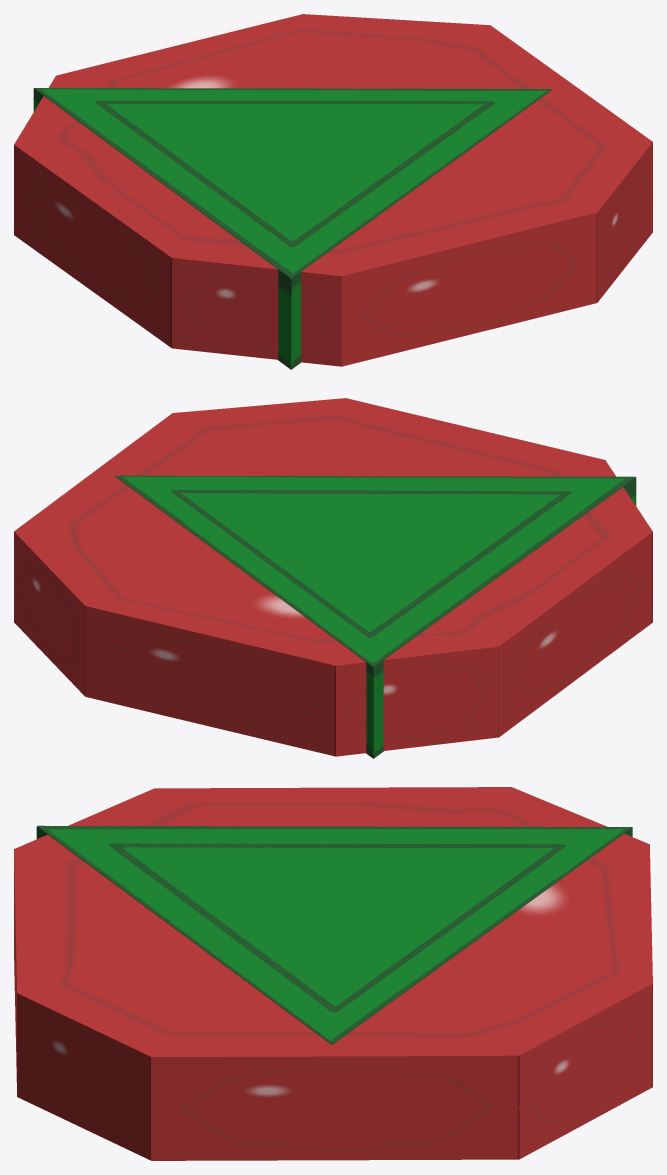
The model's file is matchthreepieces.obj.
The picture shows the model from 3 angles, top to bottom: view 1: azimuth 30°, elevation 25°; view 2: azimuth 150°, elevation 25°; view 3: azimuth 270°, elevation 25°; orthographic projection. The views are drawn at different scales.
Visible parts, largest first — view 1: Square_Piece_Circle, Triangle_Circle.001; view 2: Square_Piece_Circle, Triangle_Circle.001; view 3: Square_Piece_Circle, Triangle_Circle.001.
Boxes of the visible parts, left/top/right/bottom form: Square_Piece_Circle: left=14, top=14, right=652, bottom=366; Triangle_Circle.001: left=33, top=88, right=552, bottom=369; Square_Piece_Circle: left=14, top=398, right=652, bottom=756; Triangle_Circle.001: left=115, top=475, right=636, bottom=758; Square_Piece_Circle: left=14, top=787, right=652, bottom=1160; Triangle_Circle.001: left=36, top=825, right=632, bottom=1044.
Size of the model in its own units: 1.86 by 0.3365 by 1.86.
Materials: 1 (1 with a texture image).
